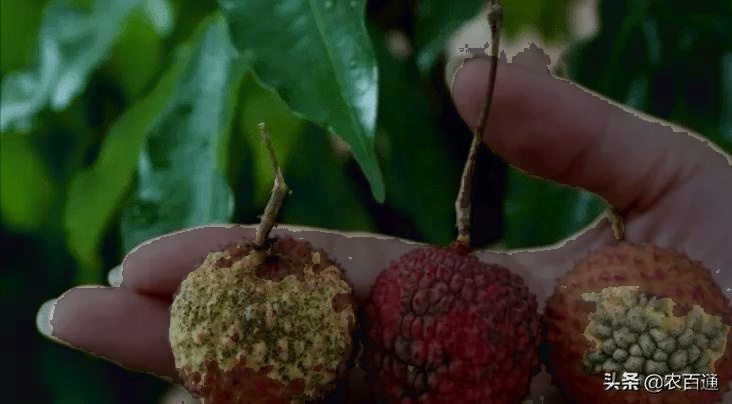Frost_Blight: (138, 239, 351, 372), (593, 281, 716, 386), (397, 257, 486, 382)
